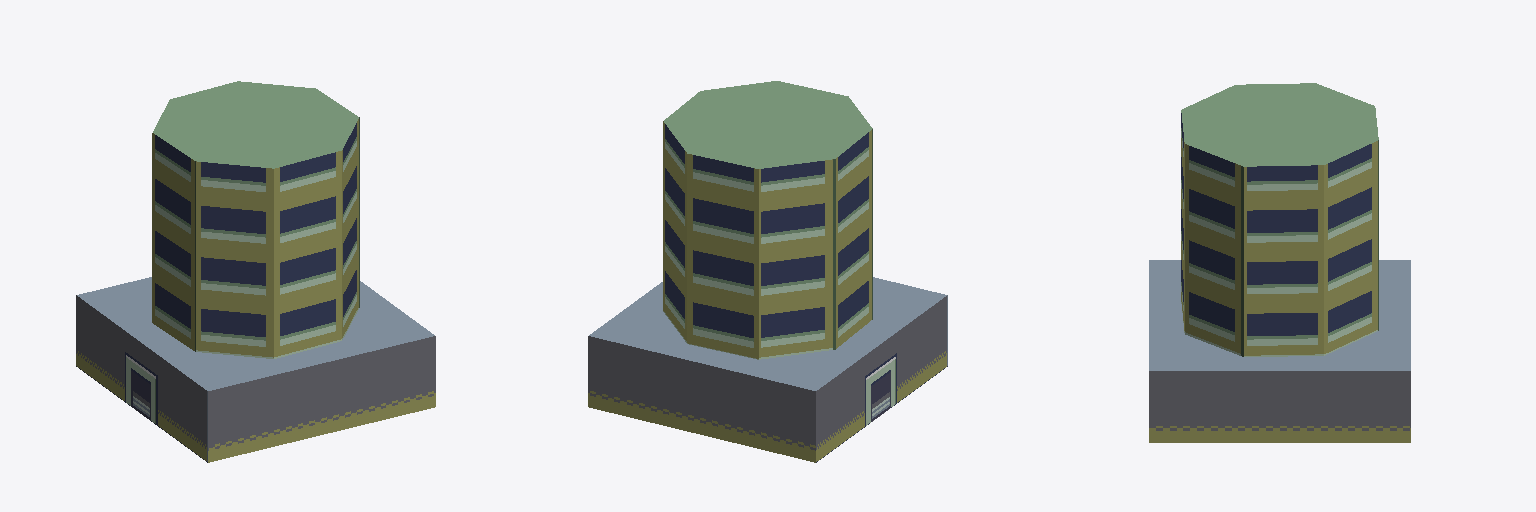
3 views of the same model, side by side, from view 1: azimuth 30°, elevation 25°; view 2: azimuth 150°, elevation 25°; view 3: azimuth 270°, elevation 25° (orthographic).
Visible parts, largest first — view 1: Torre, BaseTorre; view 2: Torre, BaseTorre; view 3: Torre, BaseTorre.
Part boxes in pixels (bbox=[...]): Torre: bbox=[152, 81, 359, 358]; BaseTorre: bbox=[76, 277, 435, 462]; Torre: bbox=[663, 81, 872, 359]; BaseTorre: bbox=[588, 277, 947, 462]; Torre: bbox=[1181, 83, 1378, 356]; BaseTorre: bbox=[1149, 260, 1410, 442].
Bounding box in the file's own units: 19.68 × 21.65 × 19.69.
1 materials, 1 textured.